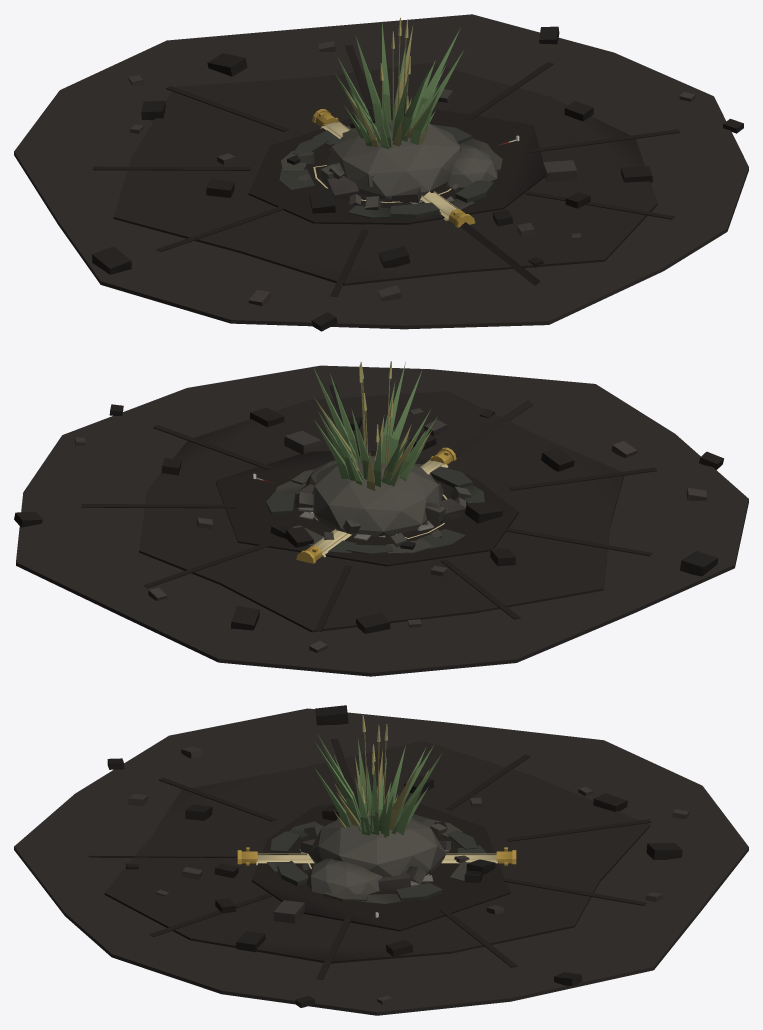
Rendered from incident-kit-near.glb.
The picture shows the model from 3 angles, top to bottom: view 1: azimuth 30°, elevation 25°; view 2: azimuth 150°, elevation 25°; view 3: azimuth 270°, elevation 25°; orthographic projection. The views are drawn at different scales.
Visible parts, largest first — view 1: Scorch, Spoil, Weed2, Pothole, HoseLine, Weed1; view 2: Scorch, Spoil, Weed2, Pothole, HoseLine, Weed1; view 3: Scorch, Spoil, Weed2, Pothole, HoseLine, Weed1.
Part boxes in pixels (bbox=[...]): Scorch: bbox=[14, 14, 748, 331]; Spoil: bbox=[298, 120, 497, 209]; Weed2: bbox=[335, 17, 463, 148]; Pothole: bbox=[279, 124, 502, 218]; HoseLine: bbox=[312, 109, 475, 227]; Weed1: bbox=[344, 56, 445, 147]; Scorch: bbox=[14, 365, 748, 676]; Spoil: bbox=[295, 455, 471, 546]; Weed2: bbox=[313, 361, 437, 490]; Pothole: bbox=[266, 463, 484, 554]; HoseLine: bbox=[296, 447, 456, 563]; Weed1: bbox=[346, 393, 432, 486]; Scorch: bbox=[14, 705, 748, 1015]; Spoil: bbox=[289, 814, 450, 894]; Weed2: bbox=[314, 715, 442, 836]; Pothole: bbox=[267, 814, 487, 904]; HoseLine: bbox=[237, 847, 516, 865]; Weed1: bbox=[334, 744, 428, 837].
Bounding box in the file's own units: 5.23 × 1.23 × 5.35.
